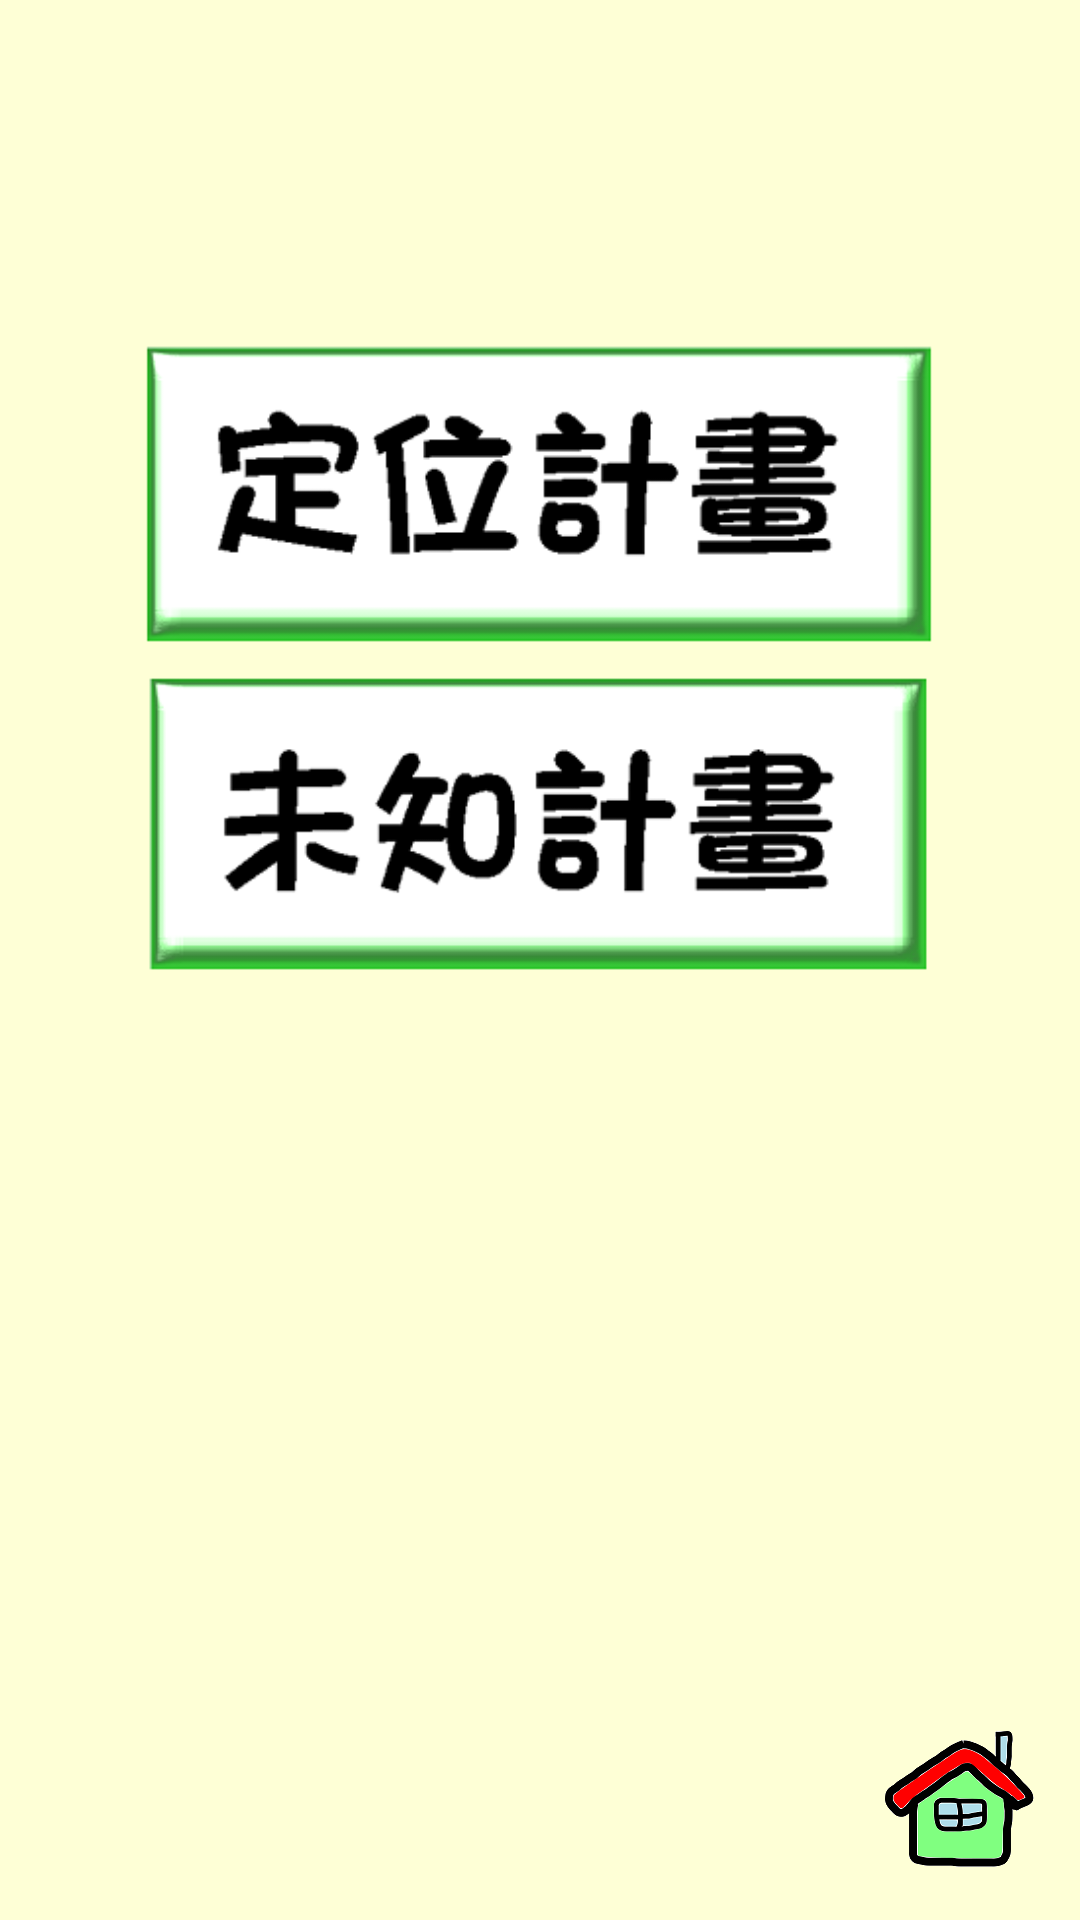

Screen size 1080px x 1920px. Icon name, then its box in pixels as [x1=x1, y1=y1, x2=x2, y2=y2]:
home: [x1=885, y1=1731, x2=1034, y2=1867]
